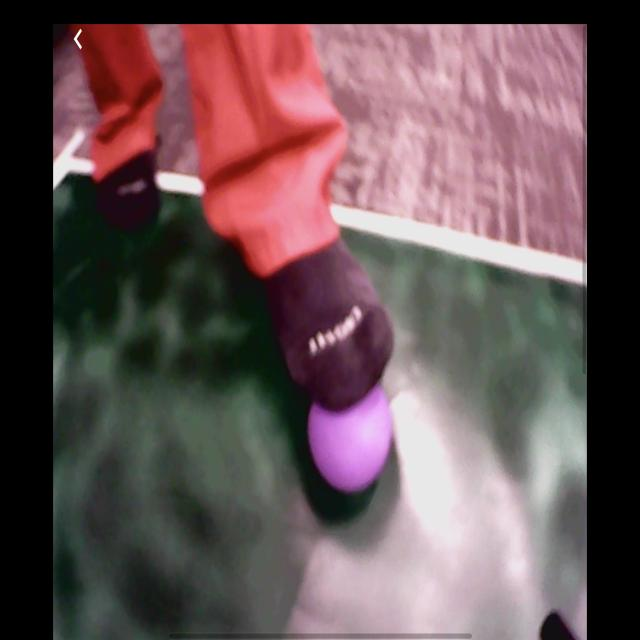ball: (308, 380, 396, 495)
